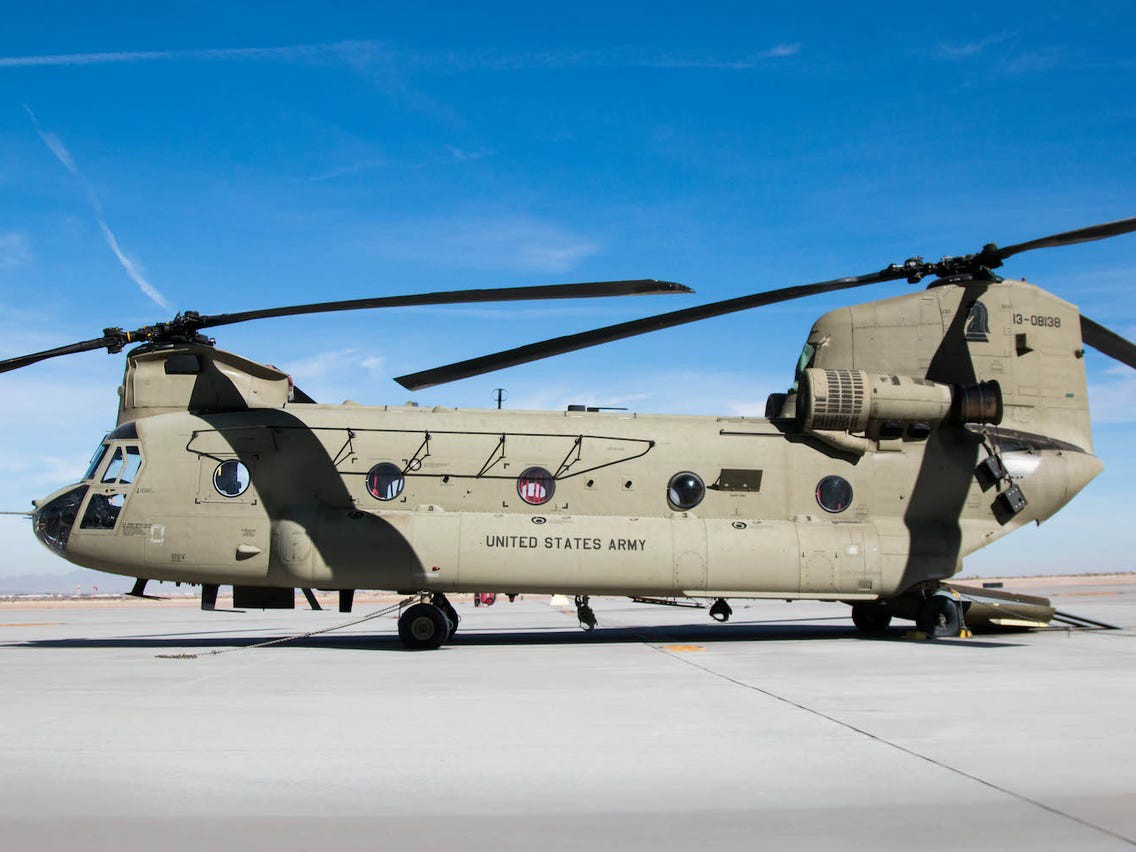chinook: (28, 242, 1108, 656)
